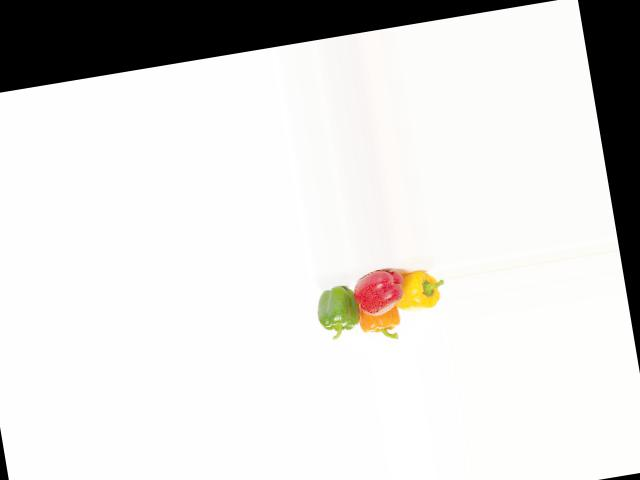bell_pepper: (312, 276, 365, 338)
